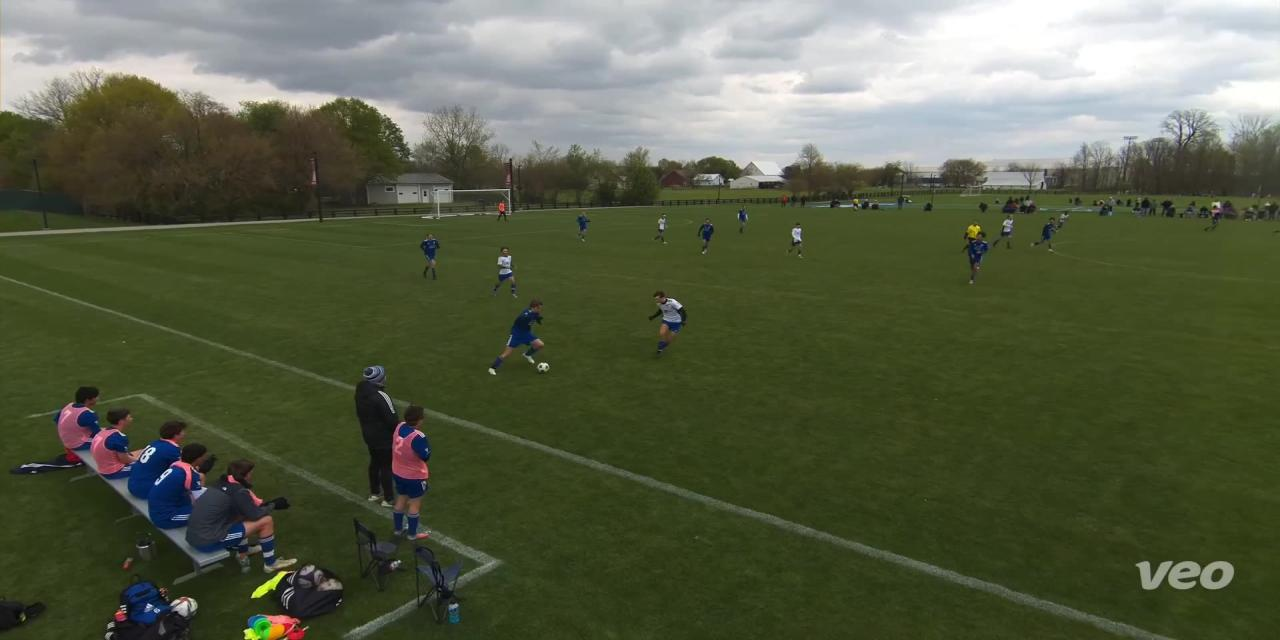goal: (420, 181, 526, 225)
sports ball: (532, 356, 557, 382)
